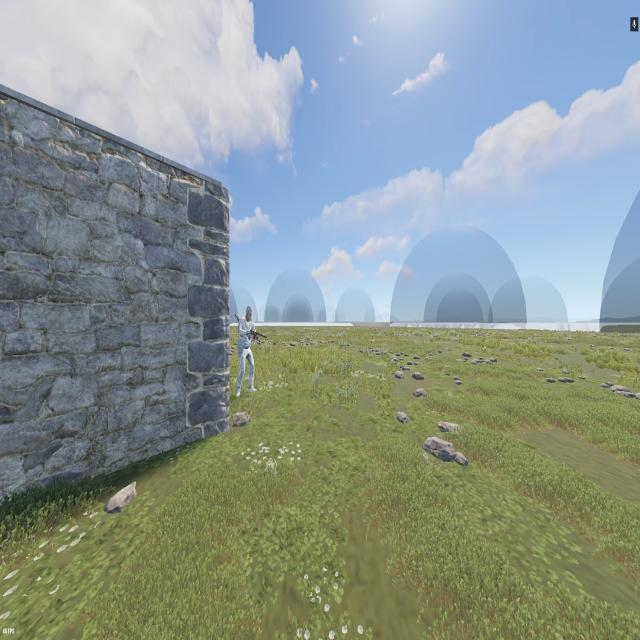Player: (235, 305, 257, 397)
